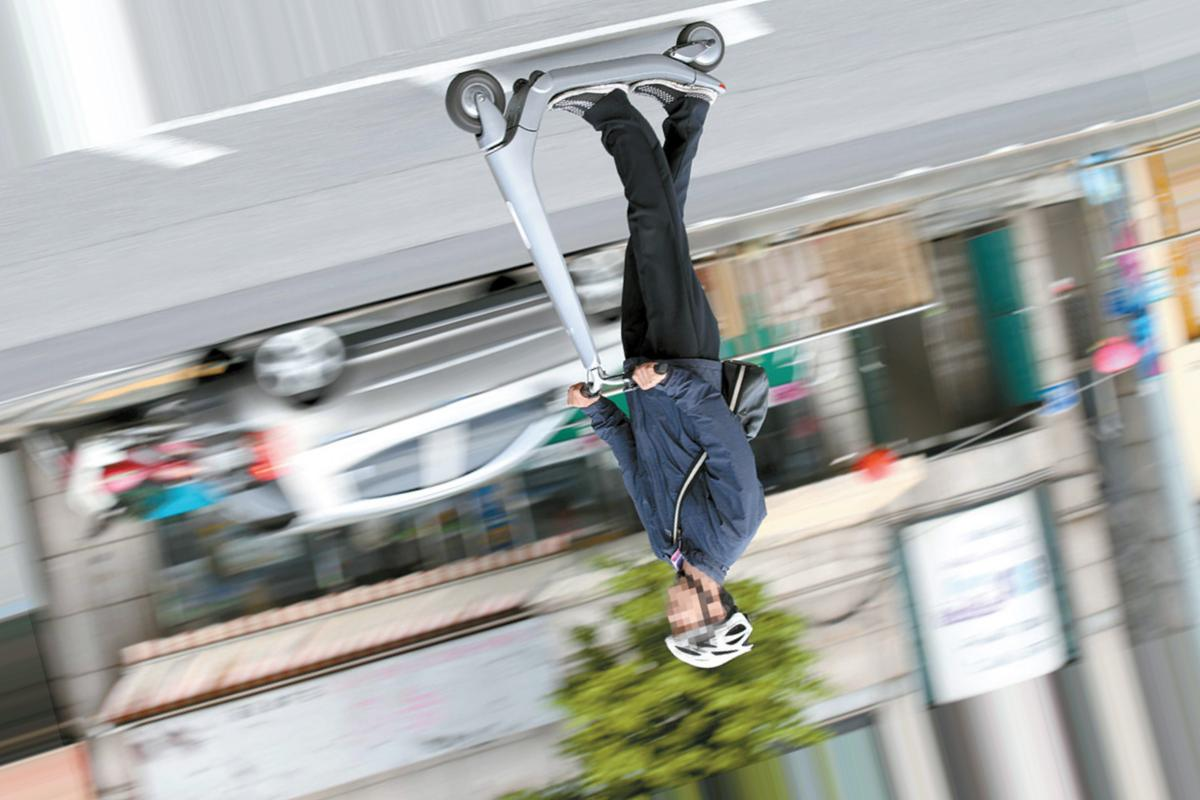scooter: (444, 21, 733, 407)
with helmet: (663, 569, 749, 669)
